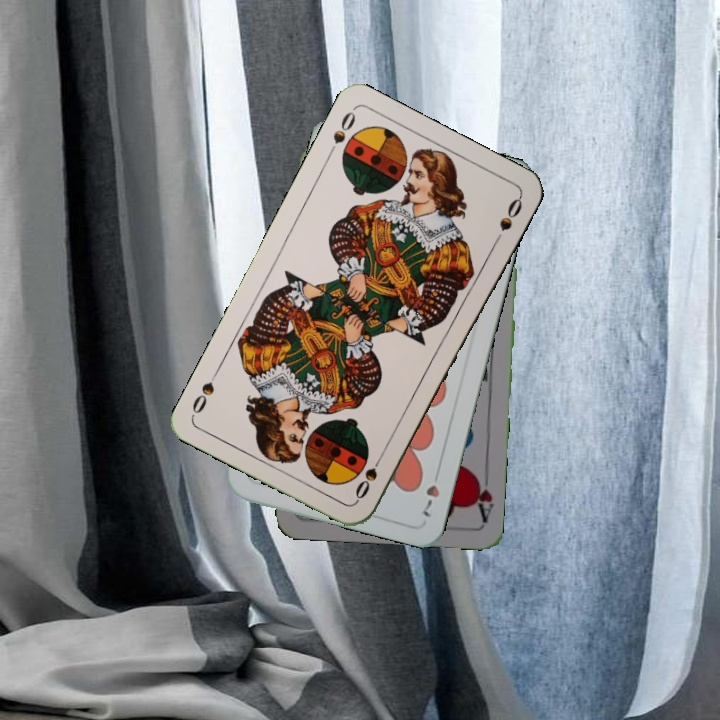H7: (419, 464, 443, 520)
HA: (469, 465, 496, 524)
SO: (351, 449, 387, 503), (323, 107, 359, 161)
